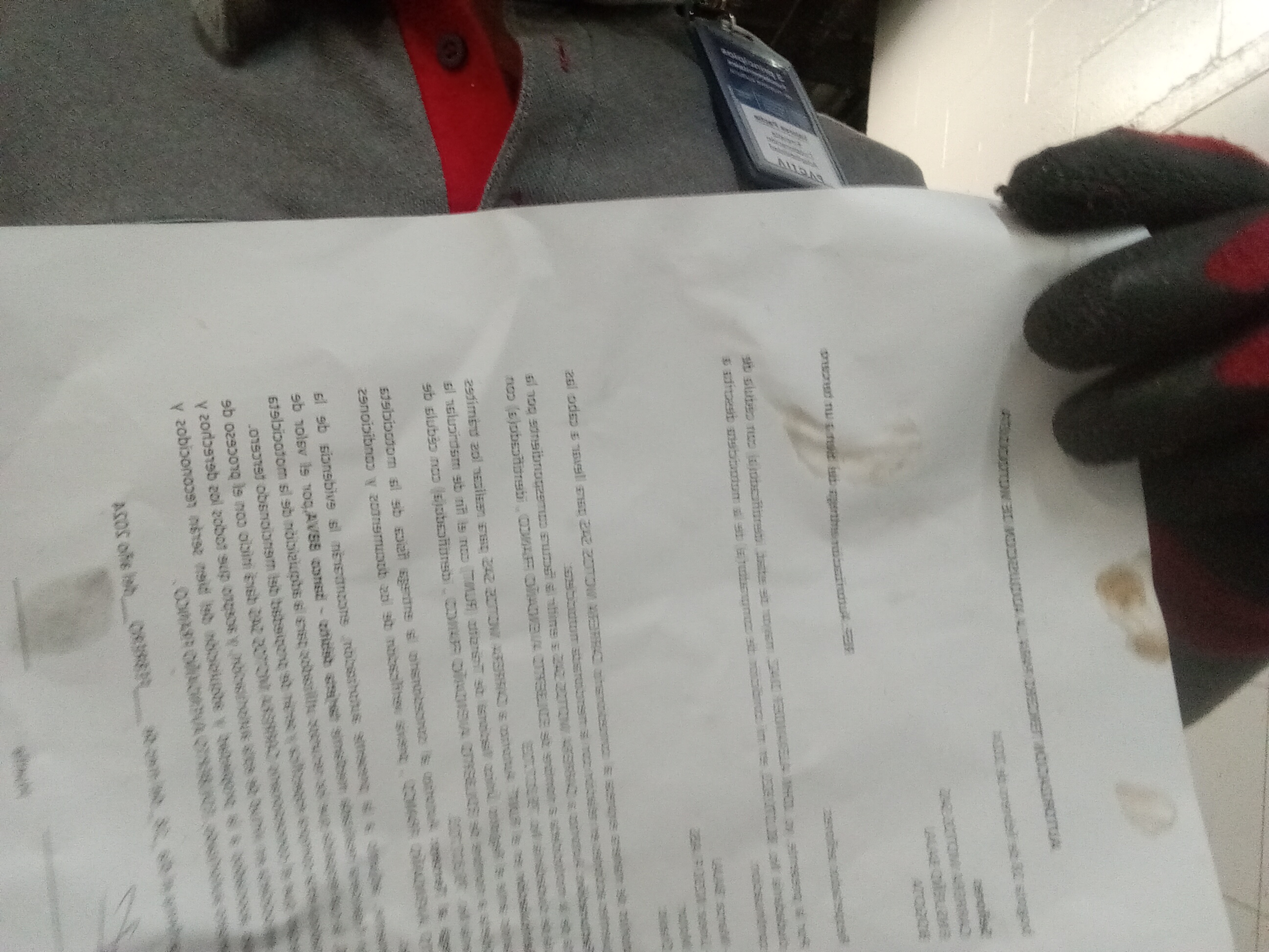Papel: (0, 186, 1229, 949)
